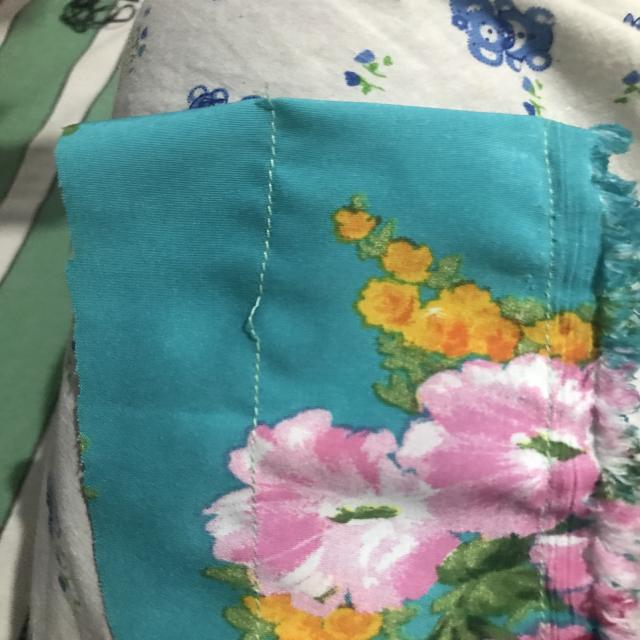good: (249, 145, 286, 264)
skip: (230, 281, 282, 366)
